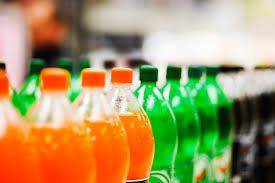Plastic bottle: (32, 59, 275, 183)
